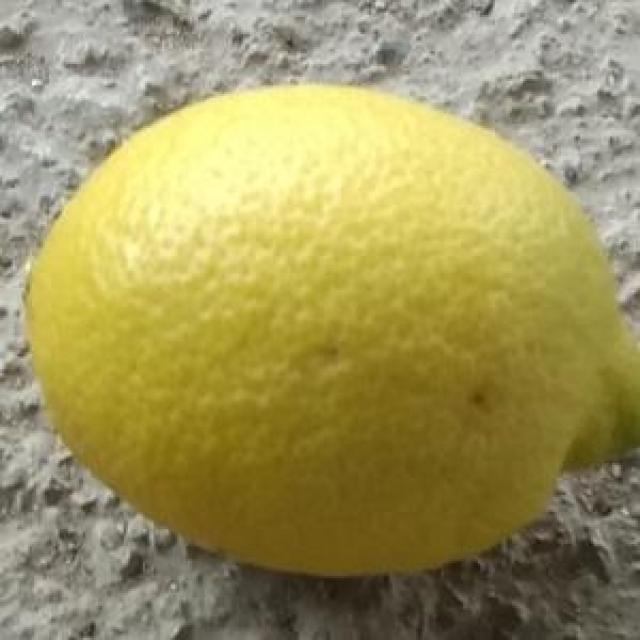lemon: (19, 83, 640, 578)
